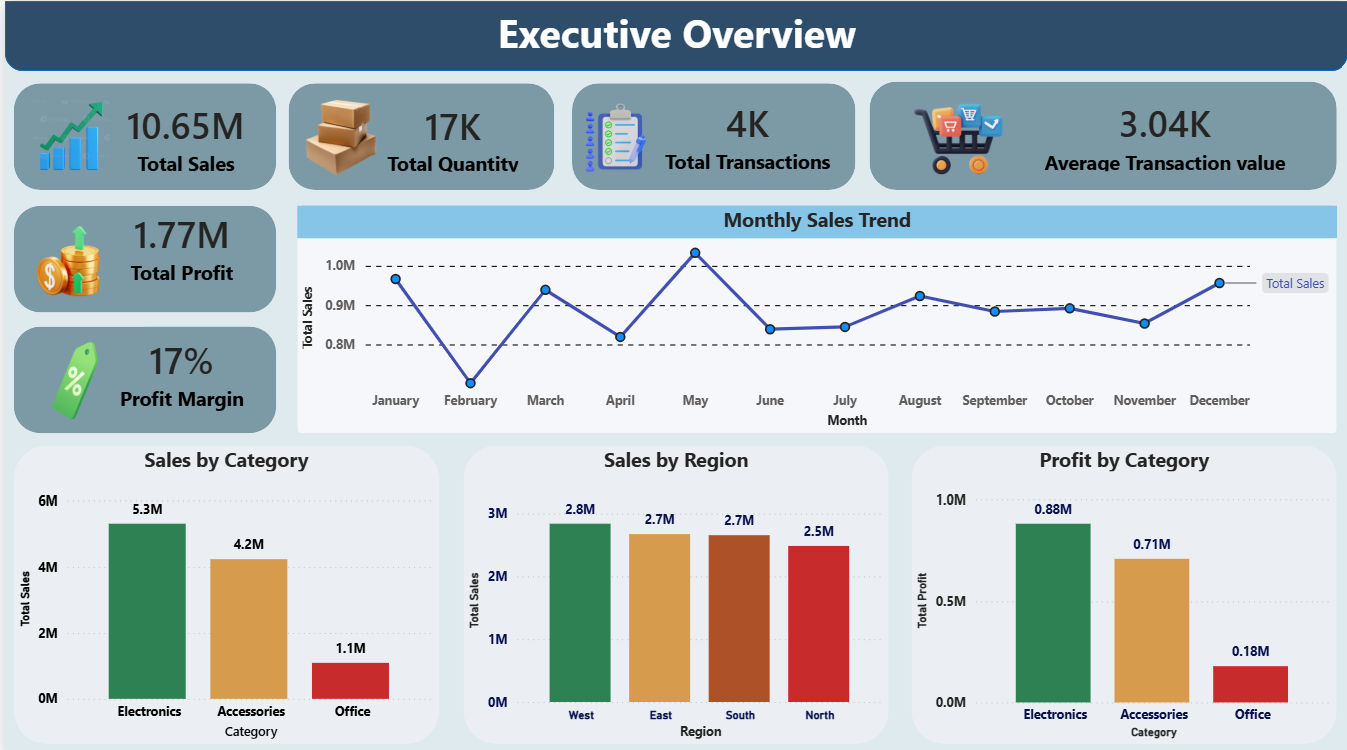

This screenshot's page, from the dashboard's own definition file:
{"tool":"powerbi","page":{"name":"Executive Overview","canvas":[1280,720],"ordinal":0},"visuals":[{"type":"shape","box":[863.3,423.3,405,283.3],"z":0},{"type":"shape","box":[436.7,423.3,405,283.3],"z":1000},{"type":"shape","box":[8.3,423.3,405,283.3],"z":2000},{"type":"shape","box":[278.3,195,990,216.7],"z":3000},{"type":"shape","box":[8.3,310,250,101.7],"z":4000},{"type":"shape","box":[0,0,1280,66.7],"z":5000},{"type":"shape","box":[8.3,78.3,250,101.7],"z":6000},{"type":"cardVisual","fields":{"Data":["data_clean.Total Sales"]},"box":[86.7,80,171.7,101.7],"z":7000},{"type":"cardVisual","fields":{"Data":["data_clean.Profit Margin"]},"box":[78.3,296.7,180,115],"z":8000},{"type":"shape","box":[540,78.3,270,101.7],"z":9000},{"type":"cardVisual","fields":{"Data":["data_clean.Total Transactions"]},"box":[591.7,76.7,231.7,103.3],"z":10000},{"type":"shape","box":[8.3,195,250,101.7],"z":11000},{"type":"cardVisual","fields":{"Data":["data_clean.Total Profit"]},"box":[78.3,183.3,180,101.7],"z":12000},{"type":"shape","box":[270,78.3,253.3,101.7],"z":13000},{"type":"cardVisual","fields":{"Data":["data_clean.Total Quantity"]},"box":[330,81.7,193.3,98.3],"z":14000},{"type":"shape","box":[823.3,76.7,445,103.3],"z":15000},{"type":"cardVisual","fields":{"Data":["data_clean.Average Transaction value"]},"box":[941.7,78.3,326.7,101.7],"z":16000},{"type":"lineChart","title":"Monthly Sales Trend","fields":{"Category":["data_clean.Order_date.Variation.Date Hierarchy.Month"],"Y":["data_clean.Total Sales"]},"box":[278.3,195,990,216.7],"z":17000},{"type":"clusteredColumnChart","title":"Sales by Category","fields":{"Category":["data_clean.Category"],"Y":["data_clean.Total Sales"]},"box":[8.3,423.3,405,283.3],"z":18000},{"type":"clusteredColumnChart","title":"Sales by Region","fields":{"Category":["data_clean.Region"],"Y":["data_clean.Total Sales"]},"box":[436.7,423.3,405,283.3],"z":19000},{"type":"clusteredColumnChart","title":"Profit by Category","fields":{"Category":["data_clean.Category"],"Y":["data_clean.Total Profit"]},"box":[863.3,423.3,405,283.3],"z":20000},{"type":"textbox","box":[0,0,1280,66.7],"z":21000},{"type":"image","box":[8.3,95,110,66.7],"z":22000},{"type":"image","box":[26.7,211.7,73.3,73.3],"z":23000},{"type":"image","box":[810,58.3,205,146.7],"z":24000},{"type":"image","box":[540,70,81.7,121.7],"z":25000},{"type":"image","box":[0,325,133.3,73.3],"z":26000},{"type":"image","box":[241.7,86.7,155,83.3],"z":27000}]}

Visuals, with their boxes in screenshot pixels (x1, y1, x2, y2), scaled from the page's 1280x720 canvas onto the 1347x750 screenshot:
shape: [left=908, top=441, right=1335, bottom=736]
shape: [left=460, top=441, right=886, bottom=736]
shape: [left=9, top=441, right=435, bottom=736]
shape: [left=293, top=203, right=1335, bottom=429]
shape: [left=9, top=323, right=272, bottom=429]
shape: [left=0, top=0, right=1346, bottom=69]
shape: [left=9, top=82, right=272, bottom=188]
cardVisual - data_clean.Total Sales: [left=91, top=83, right=272, bottom=189]
cardVisual - data_clean.Profit Margin: [left=82, top=309, right=272, bottom=429]
shape: [left=568, top=82, right=852, bottom=188]
cardVisual - data_clean.Total Transactions: [left=623, top=80, right=866, bottom=188]
shape: [left=9, top=203, right=272, bottom=309]
cardVisual - data_clean.Total Profit: [left=82, top=191, right=272, bottom=297]
shape: [left=284, top=82, right=551, bottom=188]
cardVisual - data_clean.Total Quantity: [left=347, top=85, right=551, bottom=188]
shape: [left=866, top=80, right=1335, bottom=188]
cardVisual - data_clean.Average Transaction value: [left=991, top=82, right=1335, bottom=188]
"Monthly Sales Trend" lineChart: [left=293, top=203, right=1335, bottom=429]
"Sales by Category" clusteredColumnChart: [left=9, top=441, right=435, bottom=736]
"Sales by Region" clusteredColumnChart: [left=460, top=441, right=886, bottom=736]
"Profit by Category" clusteredColumnChart: [left=908, top=441, right=1335, bottom=736]
textbox: [left=0, top=0, right=1346, bottom=69]
image: [left=9, top=99, right=124, bottom=168]
image: [left=28, top=221, right=105, bottom=297]
image: [left=852, top=61, right=1068, bottom=214]
image: [left=568, top=73, right=654, bottom=200]
image: [left=0, top=339, right=140, bottom=415]
image: [left=254, top=90, right=417, bottom=177]
